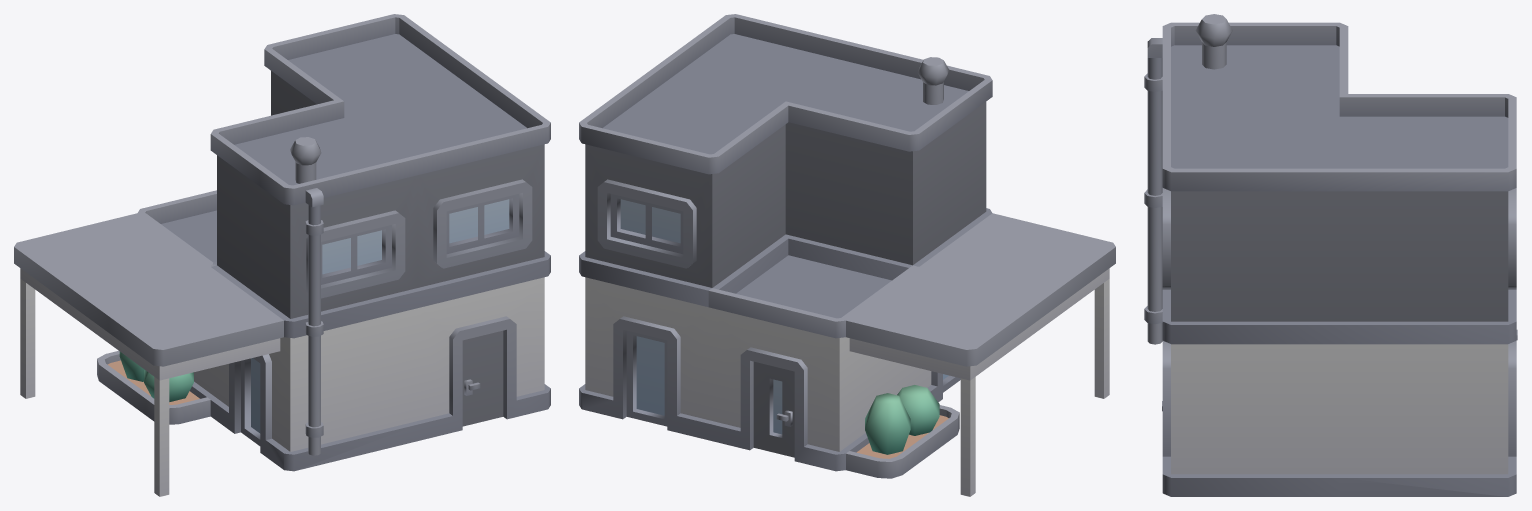
The model's file is building-type-q.glb.
3 views of the same model, side by side, from view 1: azimuth 30°, elevation 25°; view 2: azimuth 150°, elevation 25°; view 3: azimuth 270°, elevation 25° (orthographic). The views are drawn at different scales.
Visible parts, largest first — view 1: building-type-q; view 2: building-type-q; view 3: building-type-q.
Part boxes in pixels (x1,y1,x2,y2): building-type-q: (14, 14, 550, 496); building-type-q: (579, 14, 1115, 496); building-type-q: (1144, 14, 1517, 496).
Size of the model in its own units: 1.24 by 0.918 by 0.8856.
